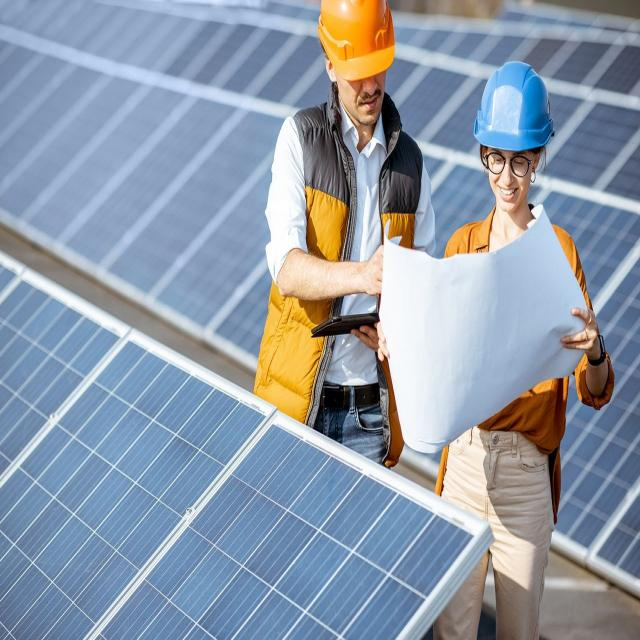clean-solar-panel: (1, 257, 479, 639)
